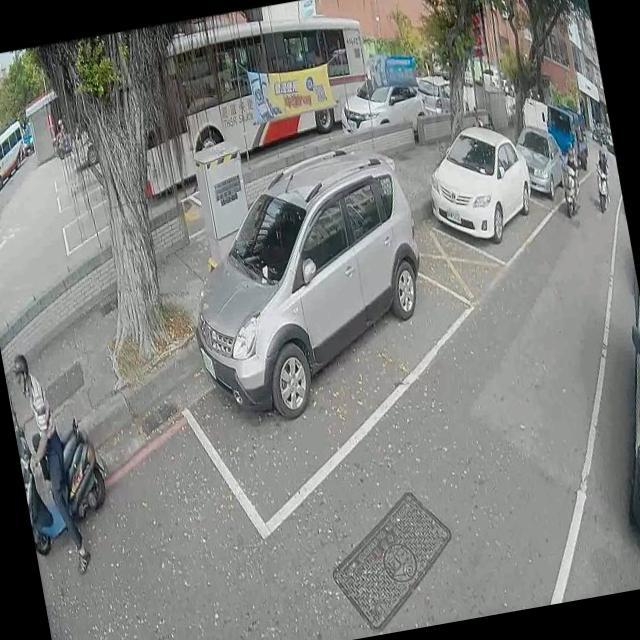person: (1, 343, 93, 584), (560, 142, 586, 204), (594, 146, 612, 183), (52, 116, 68, 150)
